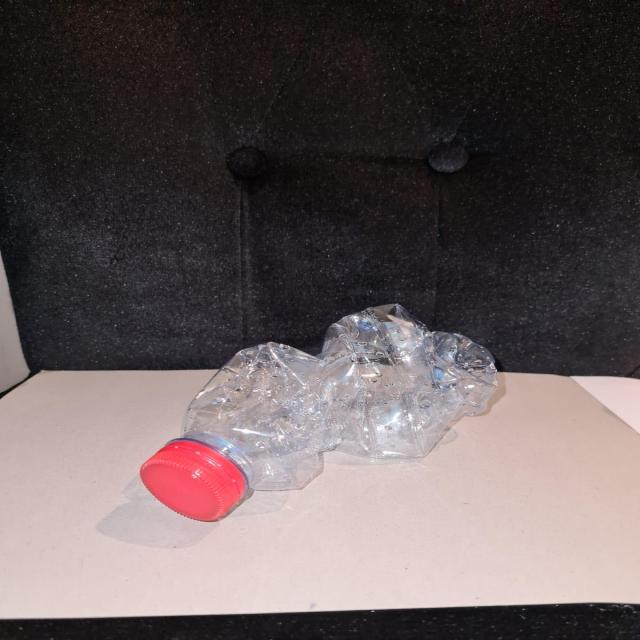bottle: (123, 302, 527, 516)
